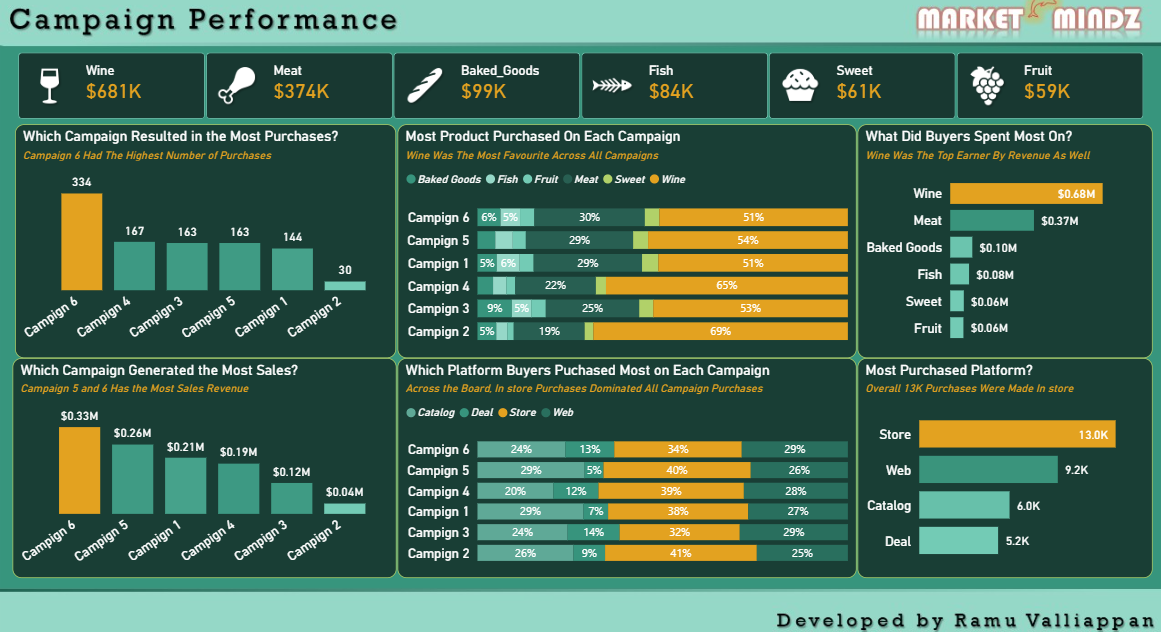

Layout of this report page (visuals, bound fields, positions):
{"tool":"powerbi","page":{"name":"Campaign Performance","canvas":[1280,720],"ordinal":0},"visuals":[{"type":"columnChart","title":"Which Campaign Resulted in the Most Purchases?","fields":{"Category":["campaign.Campaign"],"Y":["Sum(campaign.Accepted_indication)"]},"box":[16.5,144.1,418.5,256.6],"z":0},{"type":"columnChart","title":"Which Campaign Generated the Most Sales?","fields":{"Y":["Sum(products.Total Sales)"],"Category":["campaign.Campaign"]},"box":[13.7,400.7,421.3,241.5],"z":1000},{"type":"hundredPercentStackedBarChart","title":"Most Product Purchased On Each Campaign","fields":{"Series":["products.Products"],"Y":["Sum(products.Total Sales)"],"Category":["campaign.Campaign"]},"box":[436.4,144.1,503.6,256.6],"z":2000},{"type":"barChart","title":"What Did Buyers Spent Most On?","fields":{"Y":["Sum(products.Total Sales)"],"Category":["products.Products"]},"box":[941.3,144.1,323.8,256.6],"z":3000},{"type":"hundredPercentStackedBarChart","title":"Which Platform Buyers Puchased Most on Each Campaign","fields":{"Category":["campaign.Campaign"],"Y":["Sum(platform.Qty)"],"Series":["platform.Platform"]},"box":[436.4,400.1,503.6,241.5],"z":4000},{"type":"barChart","title":"Most Purchased Platform?","fields":{"Y":["Sum(platform.Qty)"],"Category":["platform.Platform"]},"box":[941.3,400.7,323.8,241.5],"z":5000},{"type":"cardVisual","fields":{"Data":["Sum(marketmindz_research_data.Amount_Wine_Products)","Sum(marketmindz_research_data.Amount_Meat_Products)","Sum(marketmindz_research_data.Amount_Baked_Prods)","Sum(marketmindz_research_data.Amount_Fish_Products)","Sum(marketmindz_research_data.Amount_Sweet_Products)","Sum(marketmindz_research_data.Amount_Fruit_Products)"]},"box":[15.1,60.4,1250.1,83.7],"z":6000}]}

Visuals, with their boxes on the page's 1280x720 design canvas (x1, y1, x2, y2). These are canvas units, not pixel positions in the 1161x632 screenshot, which may show the page scaled, cropped or inside an application window:
"Which Campaign Resulted in the Most Purchases?" columnChart: region(16, 144, 435, 401)
"Which Campaign Generated the Most Sales?" columnChart: region(14, 401, 435, 642)
"Most Product Purchased On Each Campaign" hundredPercentStackedBarChart: region(436, 144, 940, 401)
"What Did Buyers Spent Most On?" barChart: region(941, 144, 1265, 401)
"Which Platform Buyers Puchased Most on Each Campaign" hundredPercentStackedBarChart: region(436, 400, 940, 642)
"Most Purchased Platform?" barChart: region(941, 401, 1265, 642)
cardVisual - Sum(marketmindz_research_data.Amount_Wine_Products) x Sum(marketmindz_research_data.Amount_Meat_Products): region(15, 60, 1265, 144)
